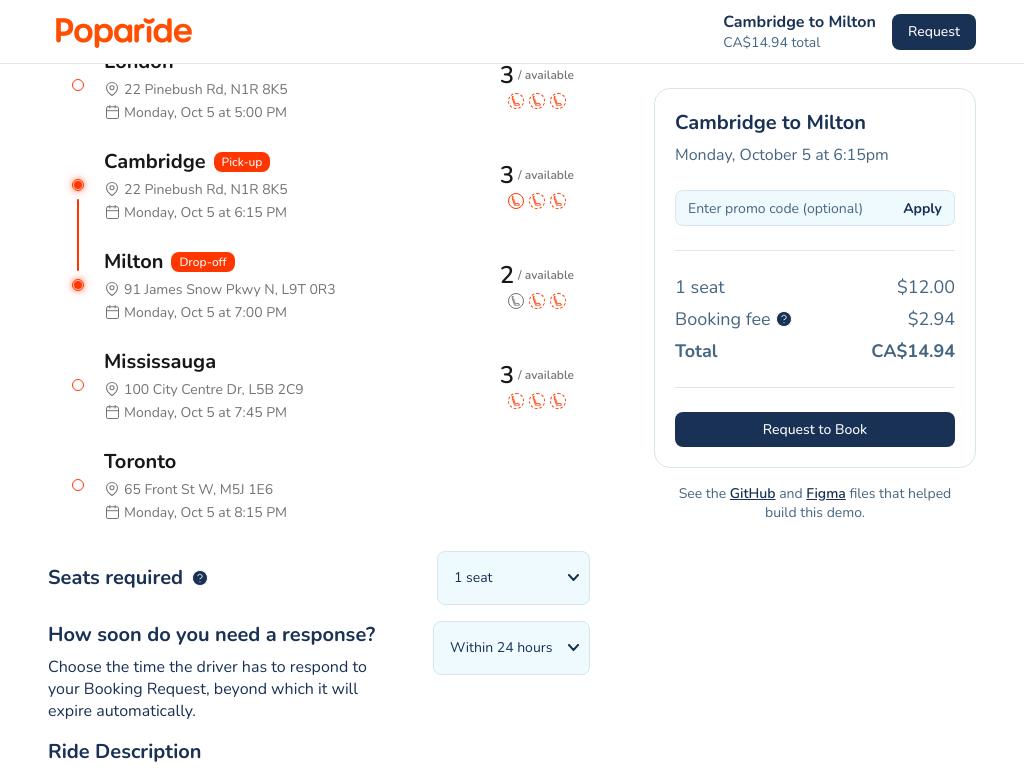
Scenario: navbar summary › follows the passenger's choices
(page scrolled)
Click the button "Mississauga" at [160, 361], box top-left (48, 335), bottom-right (590, 435)
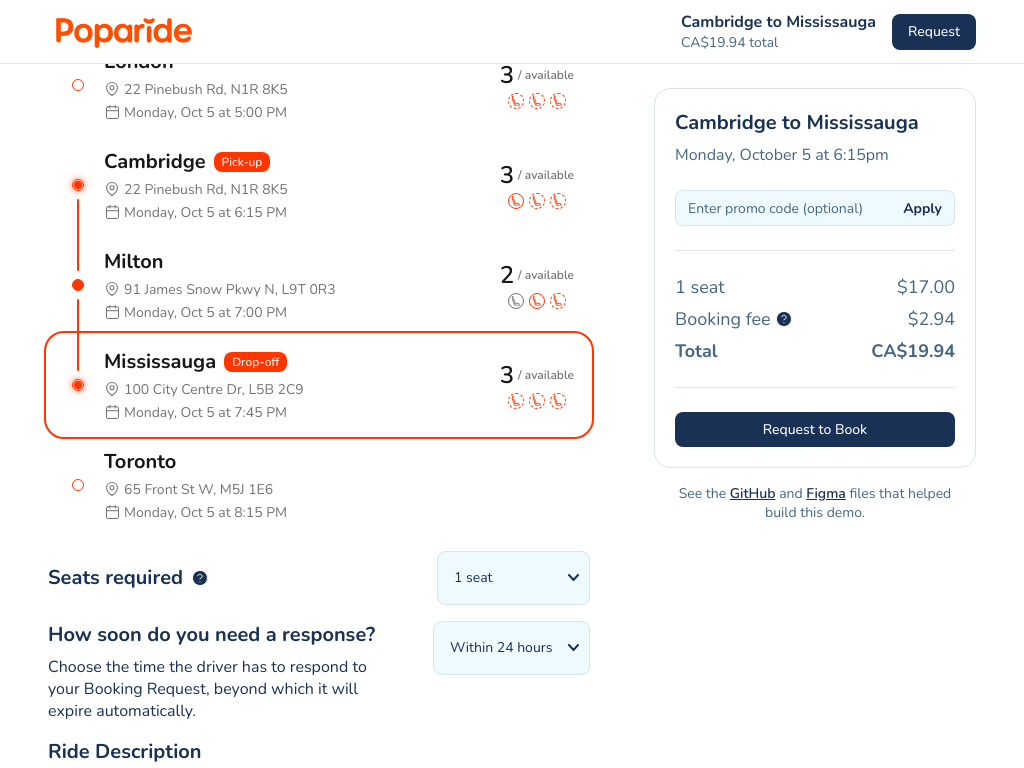
Expected: the text "Cambridge to Mississauga" is shown, top-left (681, 11), bottom-right (876, 33)
Expected: the text "CA$19.94 total" is shown, top-left (681, 33), bottom-right (778, 52)
